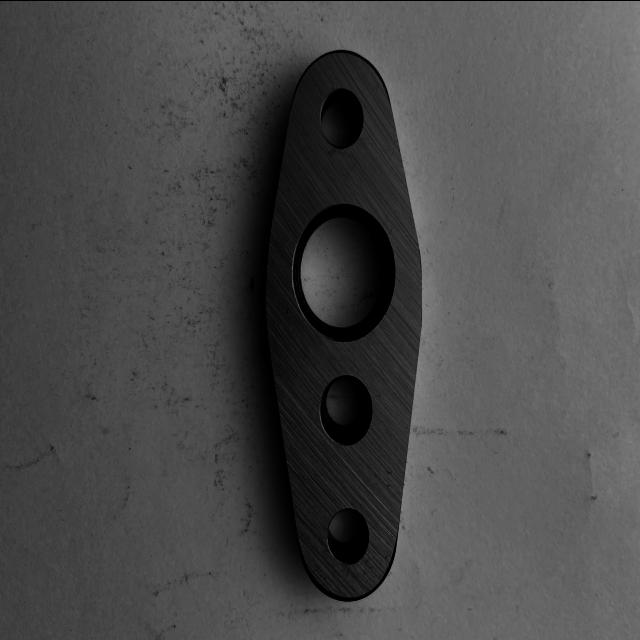chap: (332, 154, 336, 162)
